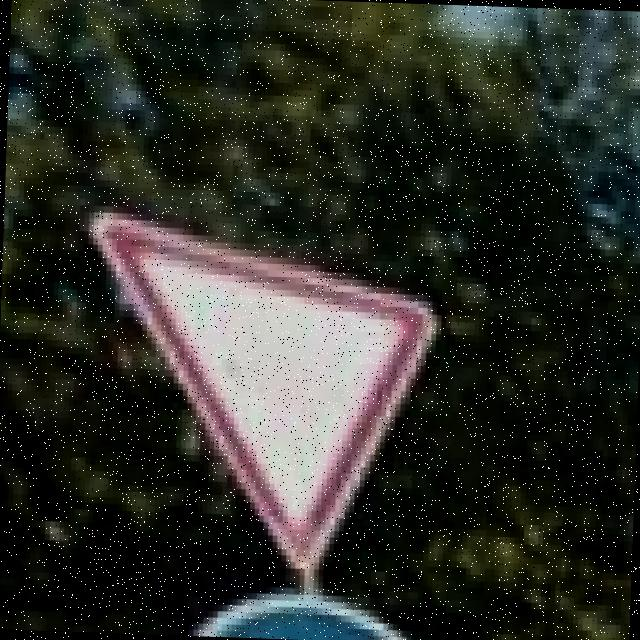Ustap pierwszenstwa: (72, 199, 444, 573)
